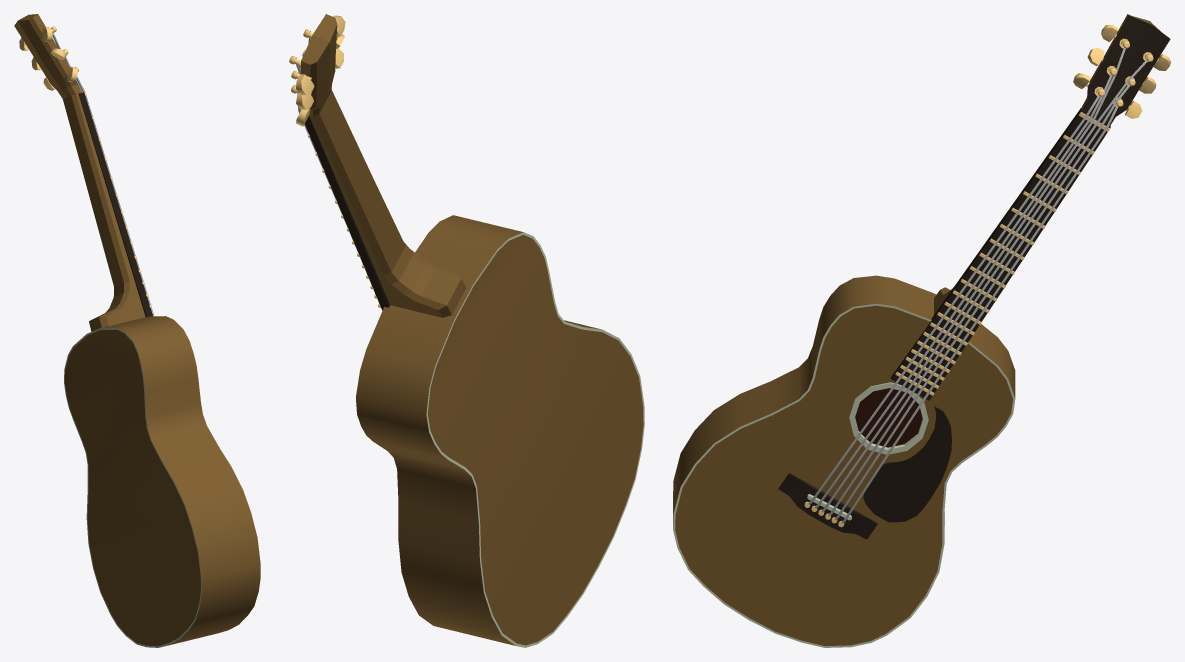
File: Low_poly_guitar.glb
3 renders of one model, left to right at view 1: azimuth 30°, elevation 25°; view 2: azimuth 150°, elevation 25°; view 3: azimuth 270°, elevation 25°, orthographic. The views are drawn at different scales.
Visible parts, largest first — view 1: Plane_Wood _0, Cube.001_Wood _0, Cube.002_Wood _0, Cube_Dark plastic_0, Plane_White paint_0, Cylinder.011_Struna_0; view 2: Plane_Wood _0, Cube.001_Wood _0, Cube.002_Wood _0, Plane_White paint_0, Cube_Dark plastic_0; view 3: Plane_Wood _0, Cube_Dark plastic_0, Plane.001_Dark plastic_0, Cube.002_Dark plastic_0, Plane_White paint_0, Plane_Dark wood_0, Cube.003_Dark plastic_0, Cylinder.015_Struna_0, Cylinder.014_Struna_0, Cylinder.010_Struna_0, Cylinder.012_Struna_0, Cylinder.011_Struna_0 (+2 smaller).
Part boxes in pixels (bbox=[...]): Plane_Wood _0: bbox=[65, 316, 260, 647]; Cube.001_Wood _0: bbox=[63, 94, 145, 331]; Cube.002_Wood _0: bbox=[14, 14, 81, 98]; Cube_Dark plastic_0: bbox=[78, 92, 152, 317]; Plane_White paint_0: bbox=[64, 328, 201, 647]; Cylinder.011_Struna_0: bbox=[76, 76, 153, 315]; Plane_Wood _0: bbox=[356, 215, 643, 645]; Cube.001_Wood _0: bbox=[309, 90, 466, 317]; Cube.002_Wood _0: bbox=[301, 14, 337, 116]; Plane_White paint_0: bbox=[426, 232, 644, 647]; Cube_Dark plastic_0: bbox=[305, 116, 389, 310]; Plane_Wood _0: bbox=[673, 275, 1015, 645]; Cube_Dark plastic_0: bbox=[891, 108, 1110, 400]; Plane.001_Dark plastic_0: bbox=[863, 406, 951, 522]; Cube.002_Dark plastic_0: bbox=[1082, 15, 1170, 126]; Plane_White paint_0: bbox=[673, 303, 1015, 647]; Plane_Dark wood_0: bbox=[855, 388, 922, 447]; Cube.003_Dark plastic_0: bbox=[778, 473, 877, 539]; Cylinder.015_Struna_0: bbox=[828, 60, 1147, 515]; Cylinder.014_Struna_0: bbox=[821, 47, 1125, 511]; Cylinder.010_Struna_0: bbox=[835, 84, 1130, 519]; Cylinder.012_Struna_0: bbox=[814, 74, 1112, 508]; Cylinder.011_Struna_0: bbox=[808, 95, 1099, 504].
Size of the model in its own units: 1.18 by 8.72 by 6.38.
